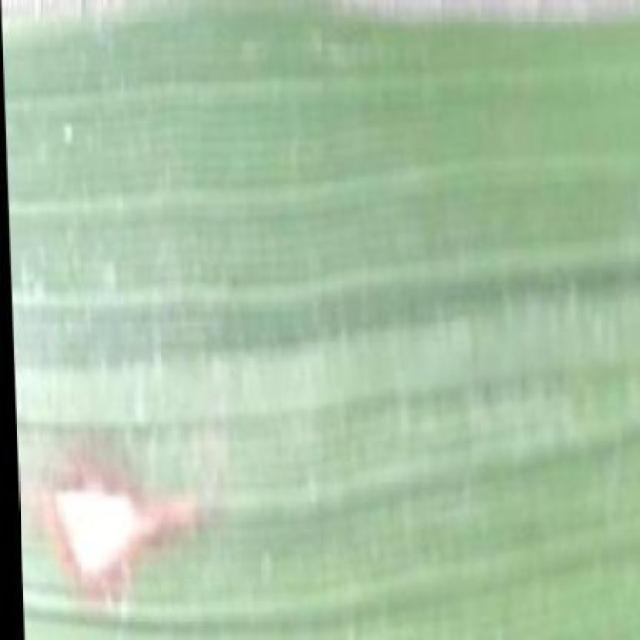Bacterial_Leaf_Blight: (37, 442, 248, 612), (15, 0, 196, 20)
